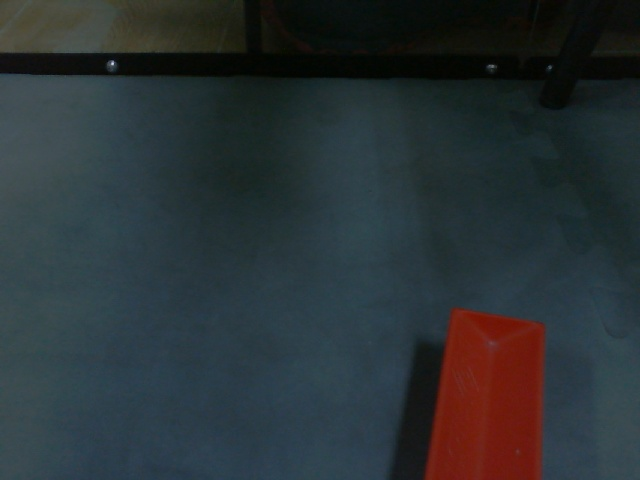RedSample: (417, 306, 547, 480)
